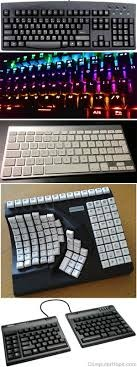keyboard: (2, 0, 135, 361)
